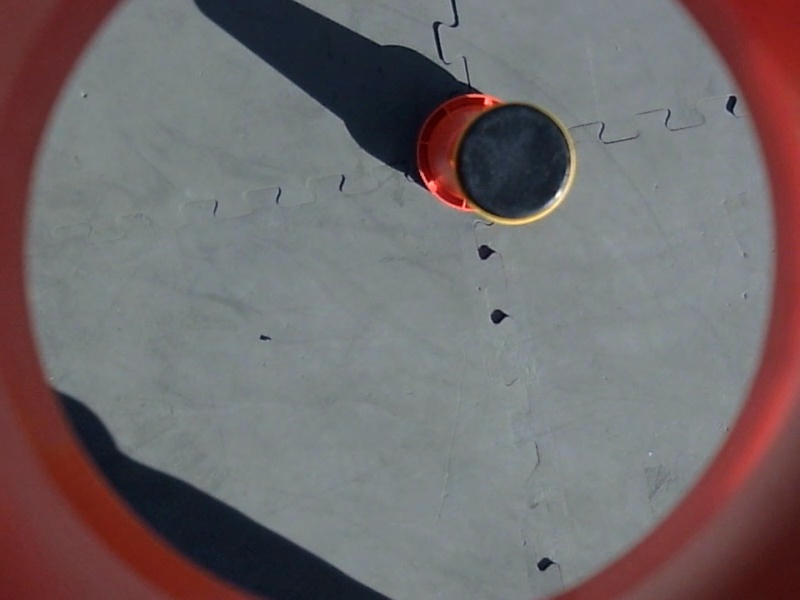tip: (456, 101, 576, 226)
